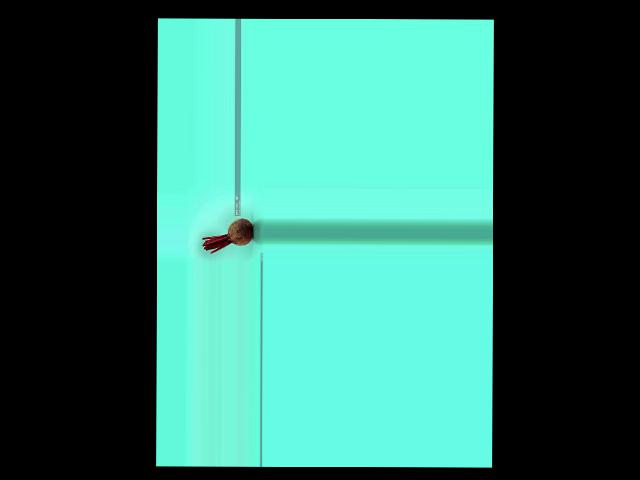beet: (203, 218, 253, 253)
